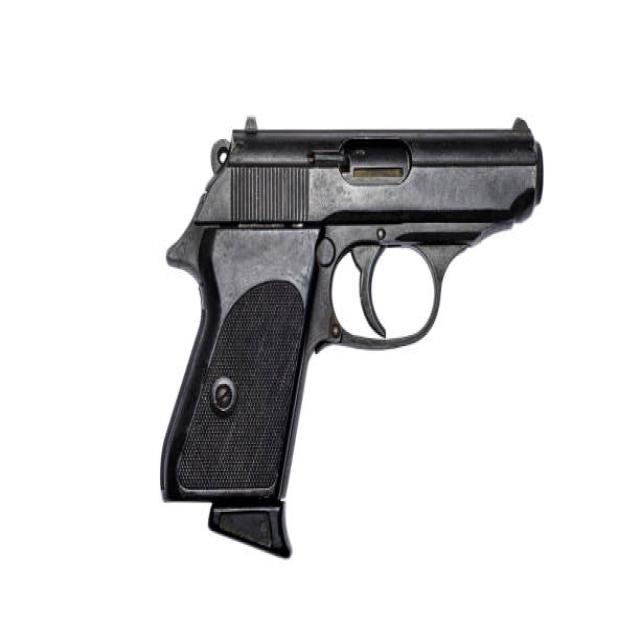pistol: (155, 109, 549, 561)
